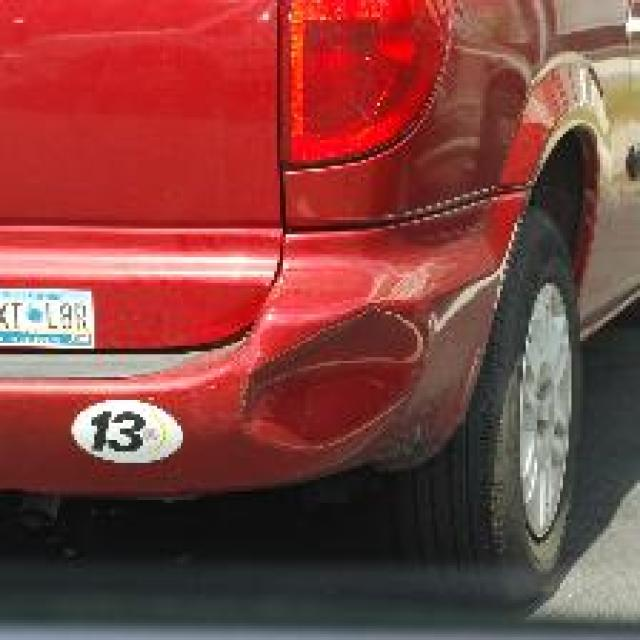bumper_dent_minor: (249, 309, 426, 443)
